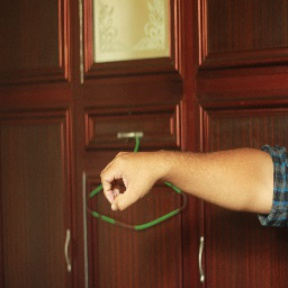O: (91, 142, 173, 219)
